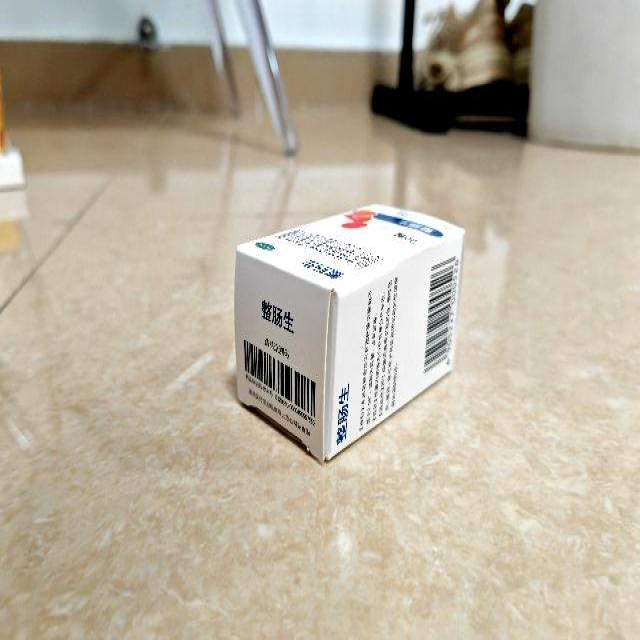box: (234, 200, 466, 467)
